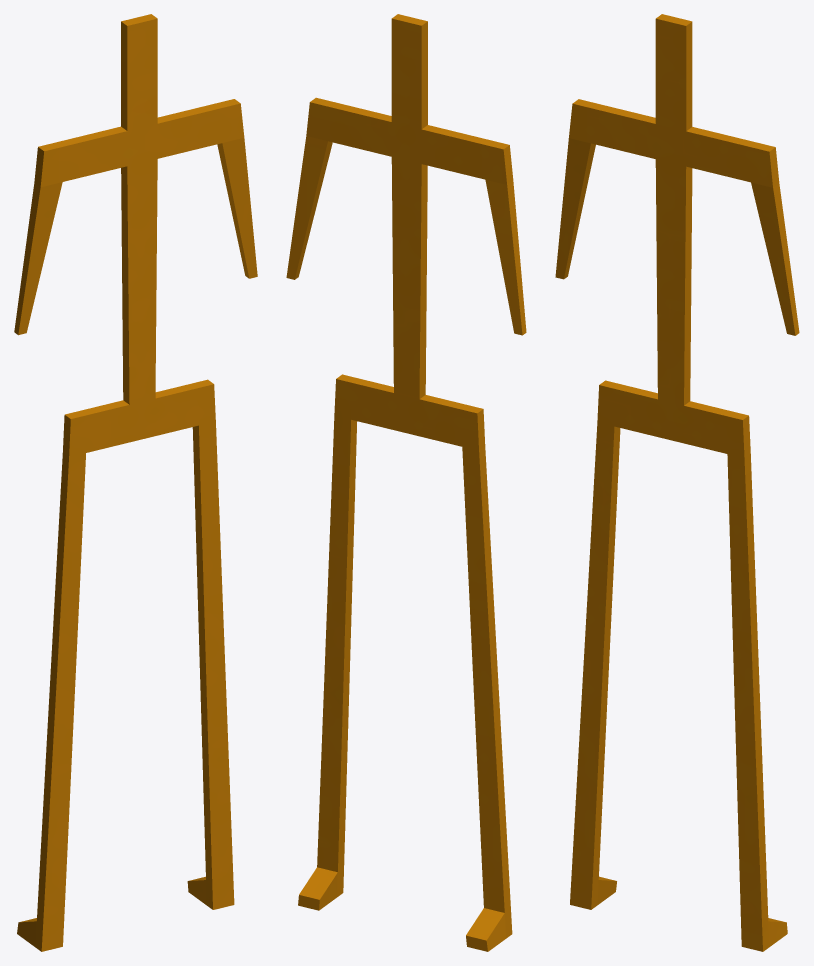
File: Armor_Stand.fbx
3 renders of one model, left to right at view 1: azimuth 30°, elevation 25°; view 2: azimuth 150°, elevation 25°; view 3: azimuth 330°, elevation 25°, orthographic.
Parts seen in each view (by area): view 1: Armor Stand; view 2: Armor Stand; view 3: Armor Stand.
Part boxes in pixels (<box>): Armor Stand: <box>14,14,257,951</box>; Armor Stand: <box>286,14,526,951</box>; Armor Stand: <box>555,14,799,951</box>.
Bounding box in the file's own units: 42.33 × 153 × 7.55.
